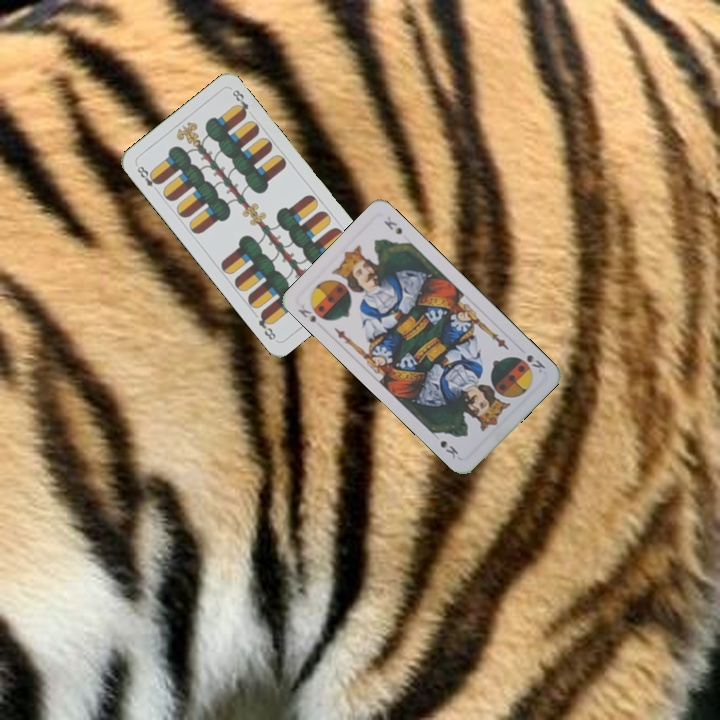E8: (133, 162, 163, 196)
SK: (522, 351, 548, 375), (294, 301, 318, 325)
